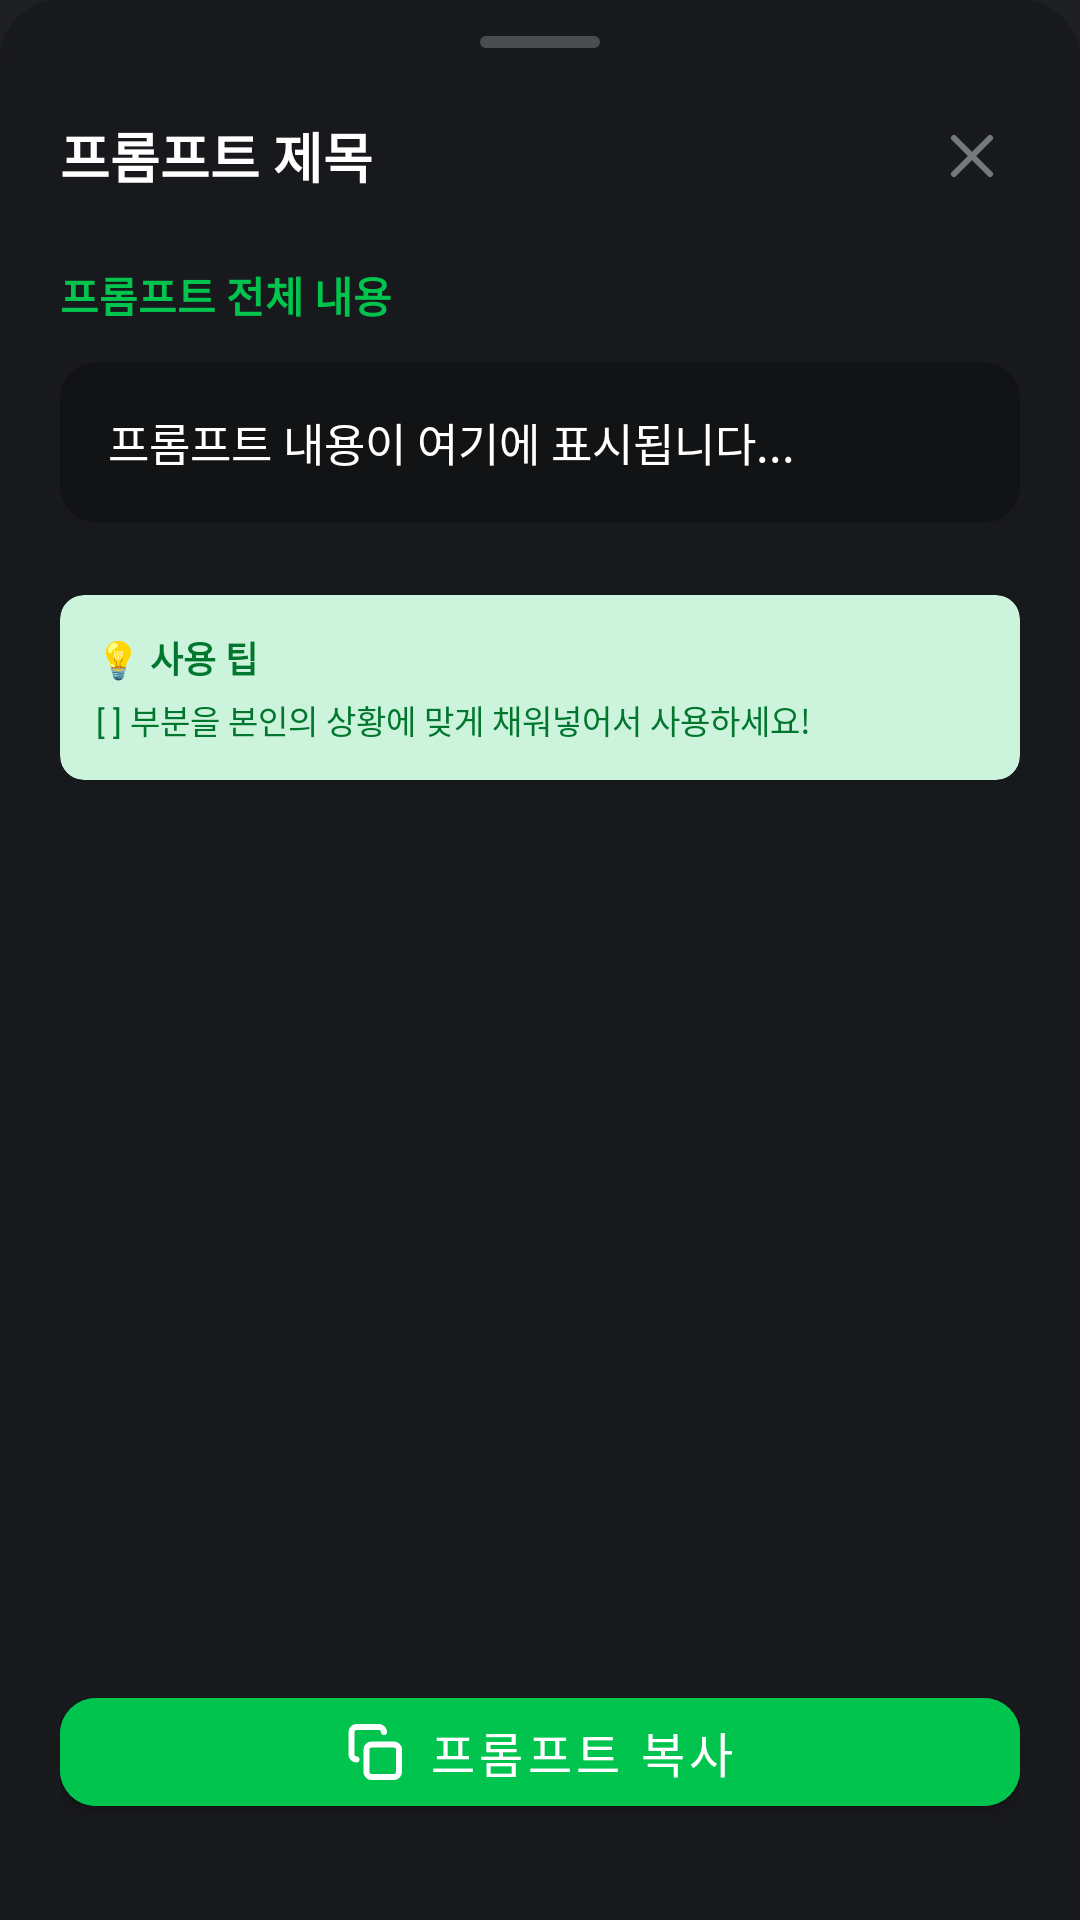

Named icons in this screenshot (1080px x 1920px) and their bounding boxes, (x1, y1, x2, y2):
close: (951, 135, 993, 177)
